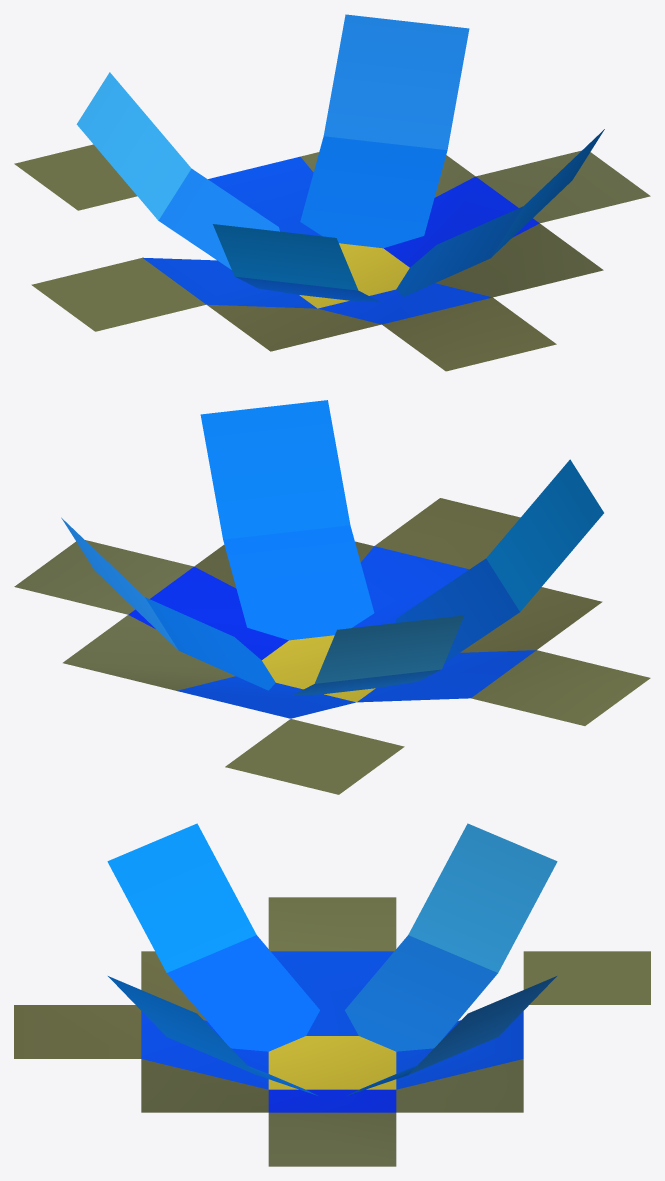
Rendered from ObjMD_Grass_BlueFlower_A_alone.FBX.
3 views of the same model, one above another, from view 1: azimuth 30°, elevation 25°; view 2: azimuth 150°, elevation 25°; view 3: azimuth 270°, elevation 25° (orthographic). The views are drawn at different scales.
Parts seen in each view (by area): view 1: ObjMD_Grass_BlueFlower_A_alone; view 2: ObjMD_Grass_BlueFlower_A_alone; view 3: ObjMD_Grass_BlueFlower_A_alone.
Boxes of the visible parts, x1,y1,x2,y2 form: ObjMD_Grass_BlueFlower_A_alone: [14, 14, 650, 371]; ObjMD_Grass_BlueFlower_A_alone: [14, 400, 650, 794]; ObjMD_Grass_BlueFlower_A_alone: [14, 823, 650, 1166].
Bounding box in the file's own units: 31.25 × 7.81 × 31.25.
